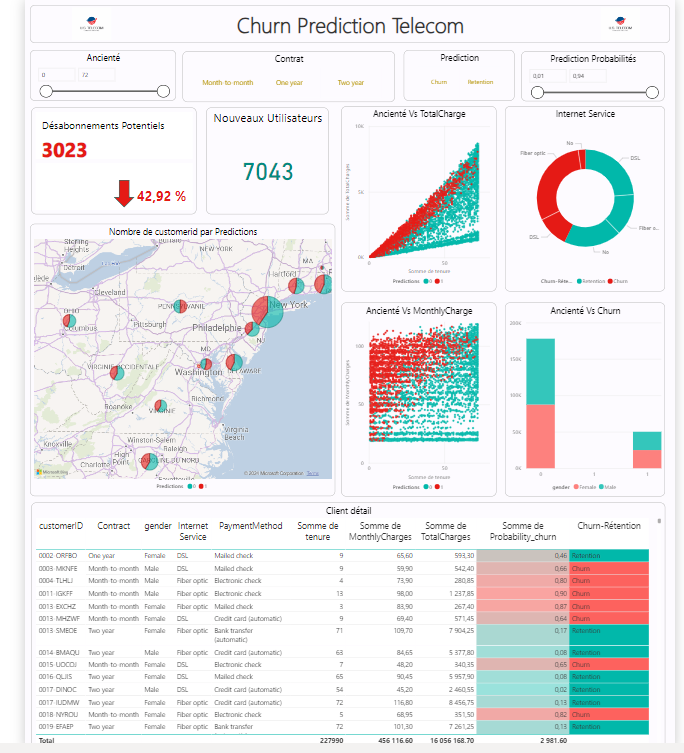

The page's visual inventory and layout, read from the dashboard file:
{"tool":"powerbi","page":{"name":"Page 1","canvas":[1300,1500],"ordinal":0},"visuals":[{"type":"textbox","box":[10,0,280,280],"z":0},{"type":"textbox","box":[10,10,1280,75.7],"z":1000},{"type":"slicer","title":"Ancienté","fields":{"Values":["churn_predictions.tenure"]},"box":[10,100,291.7,101.7],"z":2000},{"type":"slicer","title":"Contrat","fields":{"Values":["churn_predictions.Contract"]},"box":[315,101.7,425,101.7],"z":3000},{"type":"slicer","title":"Prediction","fields":{"Values":["churn_predictions.Churn-Rétention"]},"box":[758.3,100,221.7,101.7],"z":4000},{"type":"slicer","title":"Prediction Probabilités","fields":{"Values":["churn_predictions.Probability_churn"]},"box":[993.3,101.7,286.7,100],"z":5000},{"type":"card","title":"Nouveaux Utilisateurs","fields":{"Values":["Count(churn_predictions.customerID)"]},"box":[361.7,215,245,213.3],"z":6000},{"type":"cardVisual","title":"Désabonnements Potentiels","fields":{"Data":["Count(churn_predictions.customerID)","churn_predictions.churn_pourcentage"]},"box":[11.7,215,330,213.3],"z":7000},{"type":"scatterChart","title":"Ancienté Vs TotalCharge","fields":{"Series":["churn_predictions.Predictions"],"Y":["Sum(churn_predictions.TotalCharges)"],"Category":["churn_predictions.customerID"],"X":["Sum(churn_predictions.tenure)"]},"box":[633.3,213.3,310,370],"z":8000},{"type":"donutChart","title":"Internet Service","fields":{"Category":["churn_predictions.Churn-Rétention"],"Y":["CountNonNull(churn_predictions.InternetService)"],"Series":["churn_predictions.InternetService"]},"box":[960,213.3,320,370],"z":9000},{"type":"lineStackedColumnComboChart","title":"Ancienté Vs Churn","fields":{"Y":["Sum(churn_predictions.tenure)"],"Category":["churn_predictions.Predictions"],"Series":["churn_predictions.gender"]},"box":[960,605,320,388.3],"z":10000},{"type":"scatterChart","title":"Ancienté Vs MonthlyCharge","fields":{"Category":["churn_predictions.customerID"],"X":["Sum(churn_predictions.tenure)"],"Y":["Sum(churn_predictions.MonthlyCharges)"],"Series":["churn_predictions.Predictions"]},"box":[633.3,605,310,388.3],"z":11000},{"type":"map","title":"Nombre de customerid par Predictions","fields":{"Category":["geography.Geography"],"Series":["geography.Predictions"],"Size":["CountNonNull(geography.customerID)"]},"box":[10,448.3,610,545],"z":12000},{"type":"tableEx","title":"Client détail","fields":{"Values":["churn_predictions.customerID","churn_predictions.Contract","churn_predictions.gender","churn_predictions.InternetService","churn_predictions.PaymentMethod","Sum(churn_predictions.tenure)","Sum(churn_predictions.MonthlyCharges)","Sum(churn_predictions.TotalCharges)","Sum(churn_predictions.Probability_churn)","churn_predictions.Churn-Rétention"]},"box":[11.7,1005,1268.3,495],"z":13000},{"type":"image","box":[34.3,10,197.1,75.7],"z":14000},{"type":"image","box":[1092.9,10,197.1,75.7],"z":15000},{"type":"shape","box":[176.7,360,41.7,55],"z":15001}]}

Visuals, with their boxes on the page's 1300x1500 design canvas (x1, y1, x2, y2). These are canvas units, not pixel positions in the 684x753 screenshot, which may show the page scaled, cropped or inside an application window:
textbox: bbox=(10, 0, 290, 280)
textbox: bbox=(10, 10, 1290, 86)
"Ancienté" slicer: bbox=(10, 100, 302, 202)
"Contrat" slicer: bbox=(315, 102, 740, 203)
"Prediction" slicer: bbox=(758, 100, 980, 202)
"Prediction Probabilités" slicer: bbox=(993, 102, 1280, 202)
"Nouveaux Utilisateurs" card: bbox=(362, 215, 607, 428)
"Désabonnements Potentiels" cardVisual: bbox=(12, 215, 342, 428)
"Ancienté Vs TotalCharge" scatterChart: bbox=(633, 213, 943, 583)
"Internet Service" donutChart: bbox=(960, 213, 1280, 583)
"Ancienté Vs Churn" lineStackedColumnComboChart: bbox=(960, 605, 1280, 993)
"Ancienté Vs MonthlyCharge" scatterChart: bbox=(633, 605, 943, 993)
"Nombre de customerid par Predictions" map: bbox=(10, 448, 620, 993)
"Client détail" tableEx: bbox=(12, 1005, 1280, 1500)
image: bbox=(34, 10, 231, 86)
image: bbox=(1093, 10, 1290, 86)
shape: bbox=(177, 360, 218, 415)
